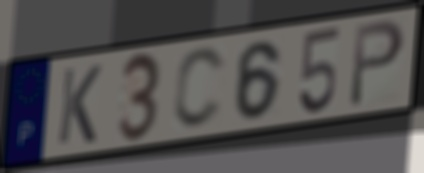3: (115, 48, 164, 147)
5: (296, 24, 342, 116)
6: (235, 38, 286, 123)
C: (170, 44, 229, 132)
K: (54, 62, 105, 148)
P: (346, 16, 407, 111)
